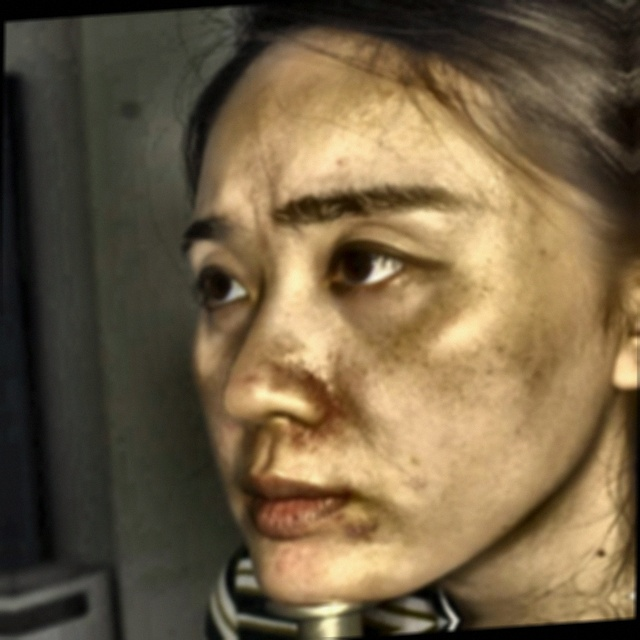comedone: (344, 512, 381, 538), (269, 549, 301, 575)
